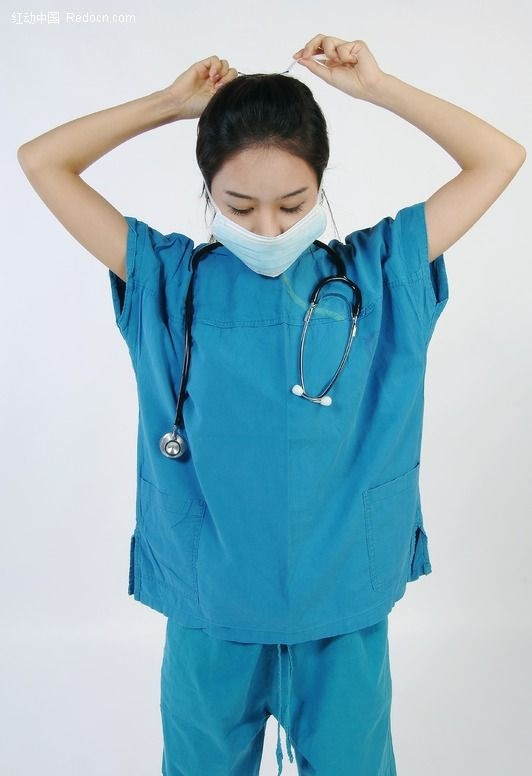face_mask: (212, 141, 319, 279)
